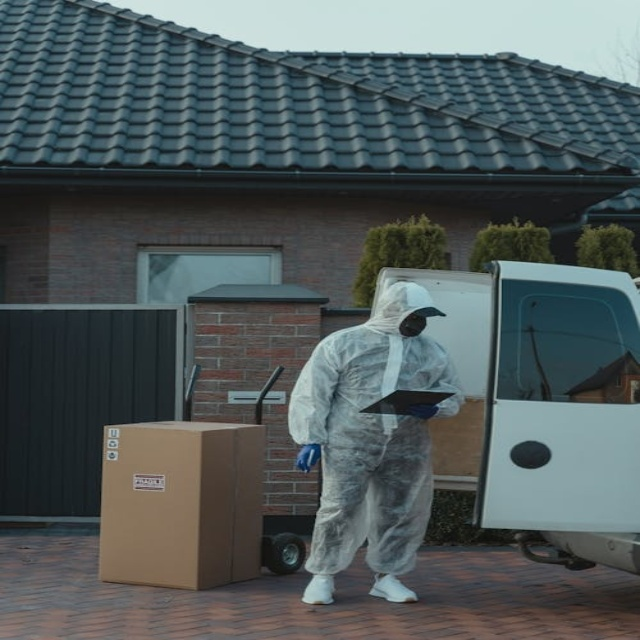Guantes: (296, 443, 322, 473), (405, 404, 440, 420)
Mascara: (399, 313, 428, 338)
